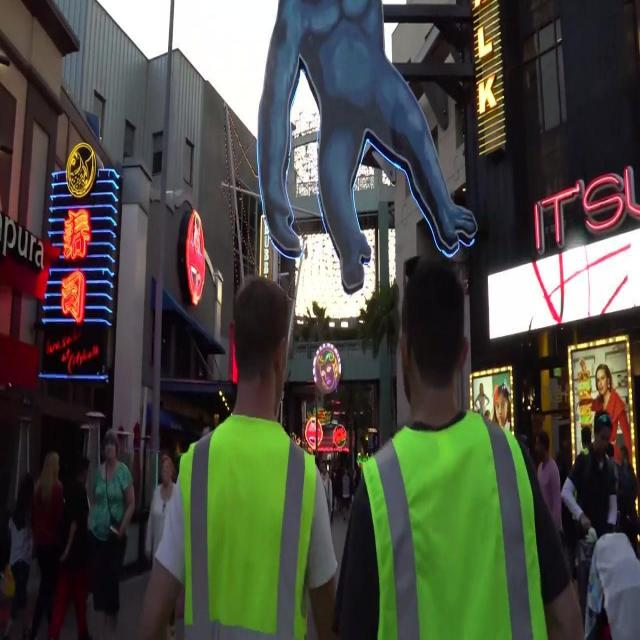vest: (361, 409, 549, 638), (181, 414, 317, 638)
